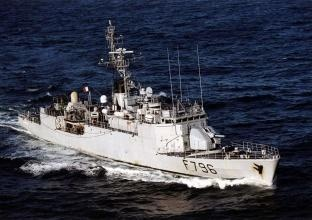warship: (8, 19, 290, 189)
